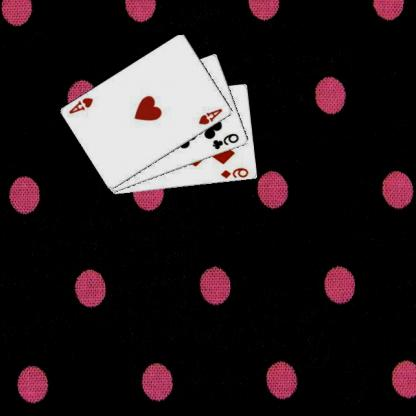9C: (212, 131, 242, 151)
9D: (220, 165, 252, 180)
AH: (68, 95, 97, 115), (198, 106, 226, 126)
